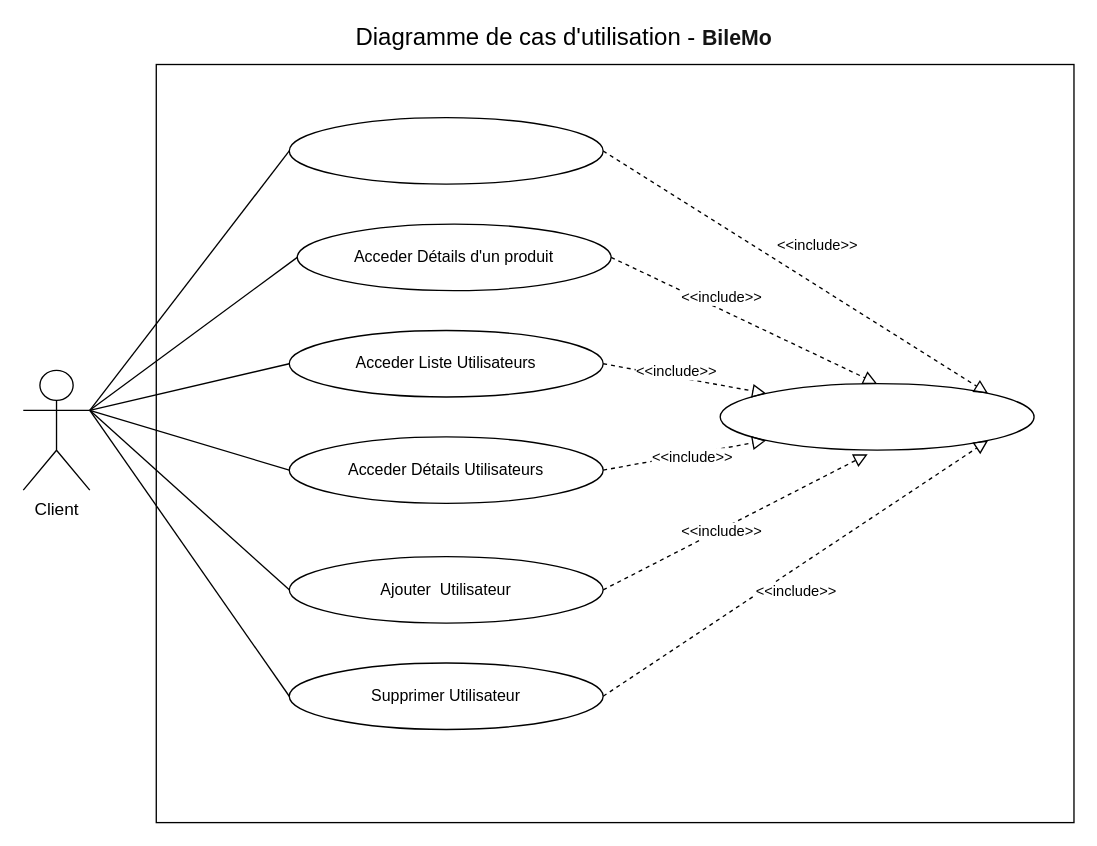
The diagram is 1097 pixels wide and 846 high, and some of its shapes have lost their labels. The centre of each missing label's shape, as x and y in pixels:
"Acceder Liste Produits" belongs at pixel 445 150.
"S'authentifier" belongs at pixel 876 416.
